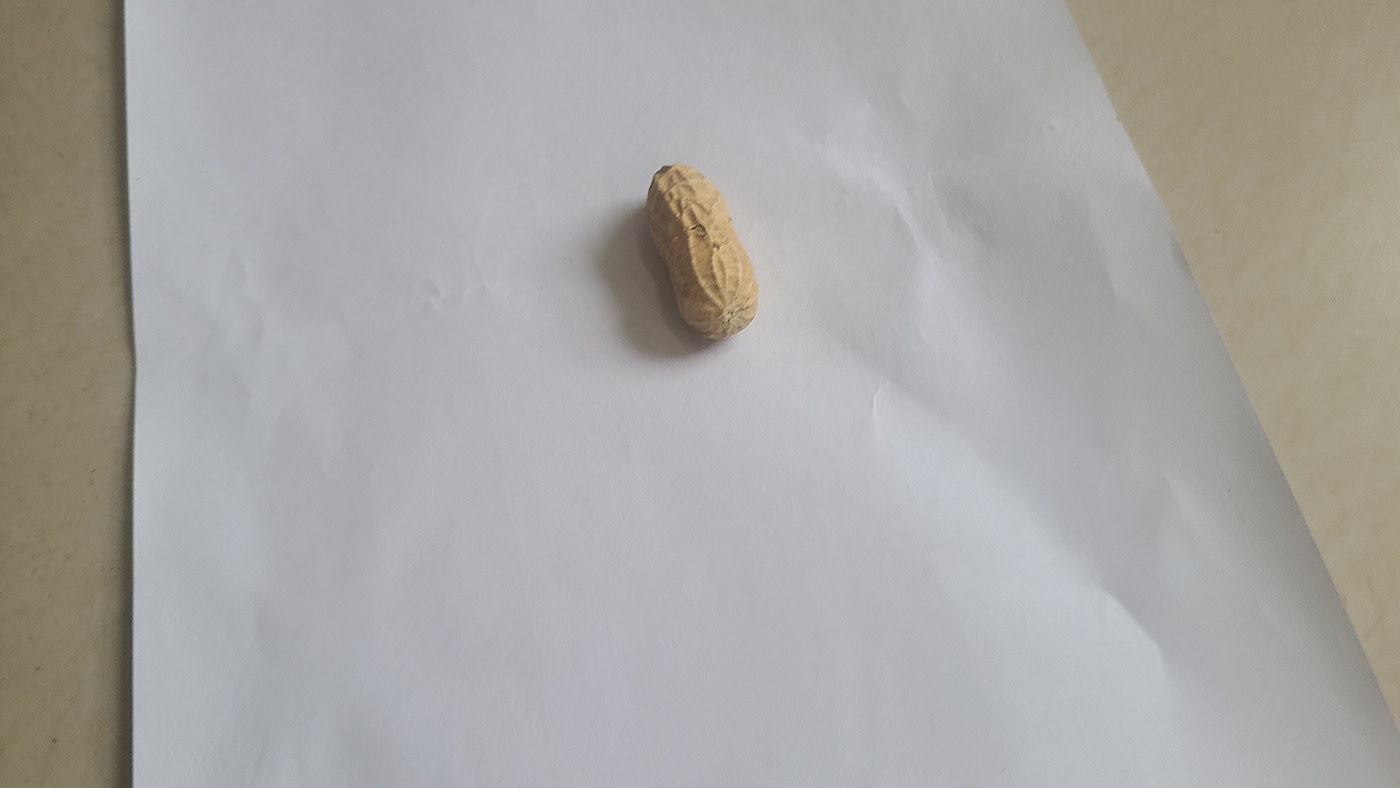h: (646, 161, 760, 342)
